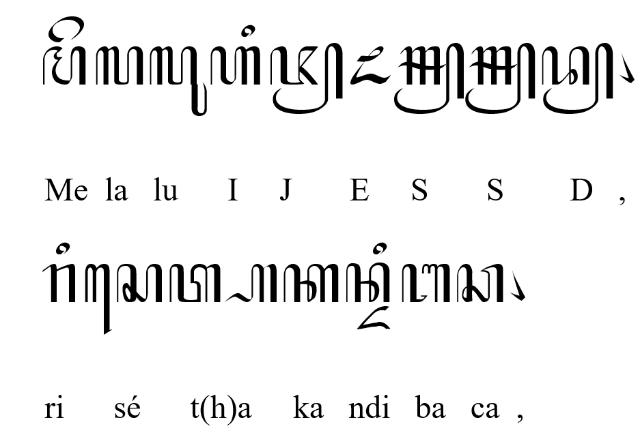-S: (392, 41, 466, 114), (464, 42, 536, 114)
-d: (541, 42, 615, 114)
-j: (270, 41, 344, 114)
E: (349, 46, 391, 86)
_d: (356, 305, 392, 331)
_h: (223, 264, 279, 304)
b: (402, 264, 451, 304)
c: (456, 263, 504, 303)
e: (48, 15, 84, 43)
e1: (84, 264, 112, 336)
h: (211, 46, 261, 86)
i: (240, 24, 256, 38), (372, 241, 388, 255), (56, 242, 70, 256)
k: (283, 262, 339, 304)
kom: (508, 270, 526, 302), (618, 51, 634, 83)
l: (94, 46, 144, 86)
lu: (148, 46, 208, 116)
m: (42, 44, 86, 86)
n: (344, 262, 392, 304)
r: (42, 262, 76, 304)
s: (116, 264, 162, 304)
t: (168, 264, 222, 304)
